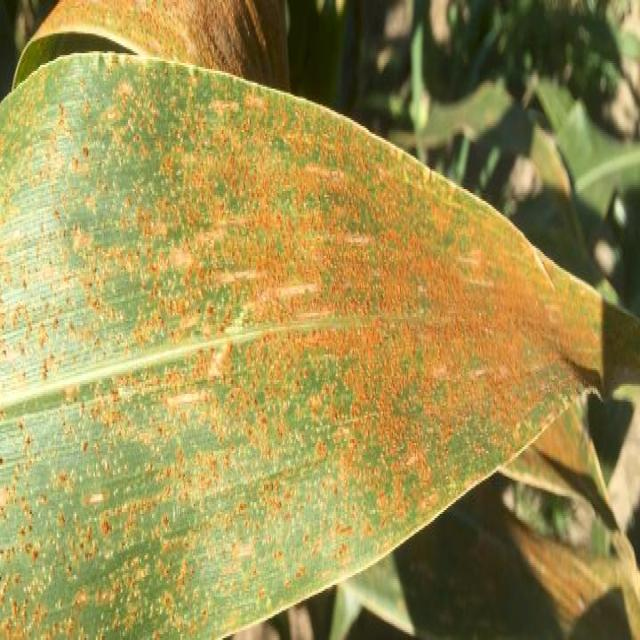leaf_rust: (0, 53, 639, 636)
